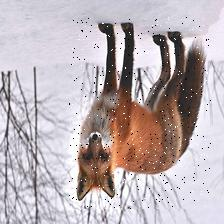fox: (70, 16, 212, 208)
